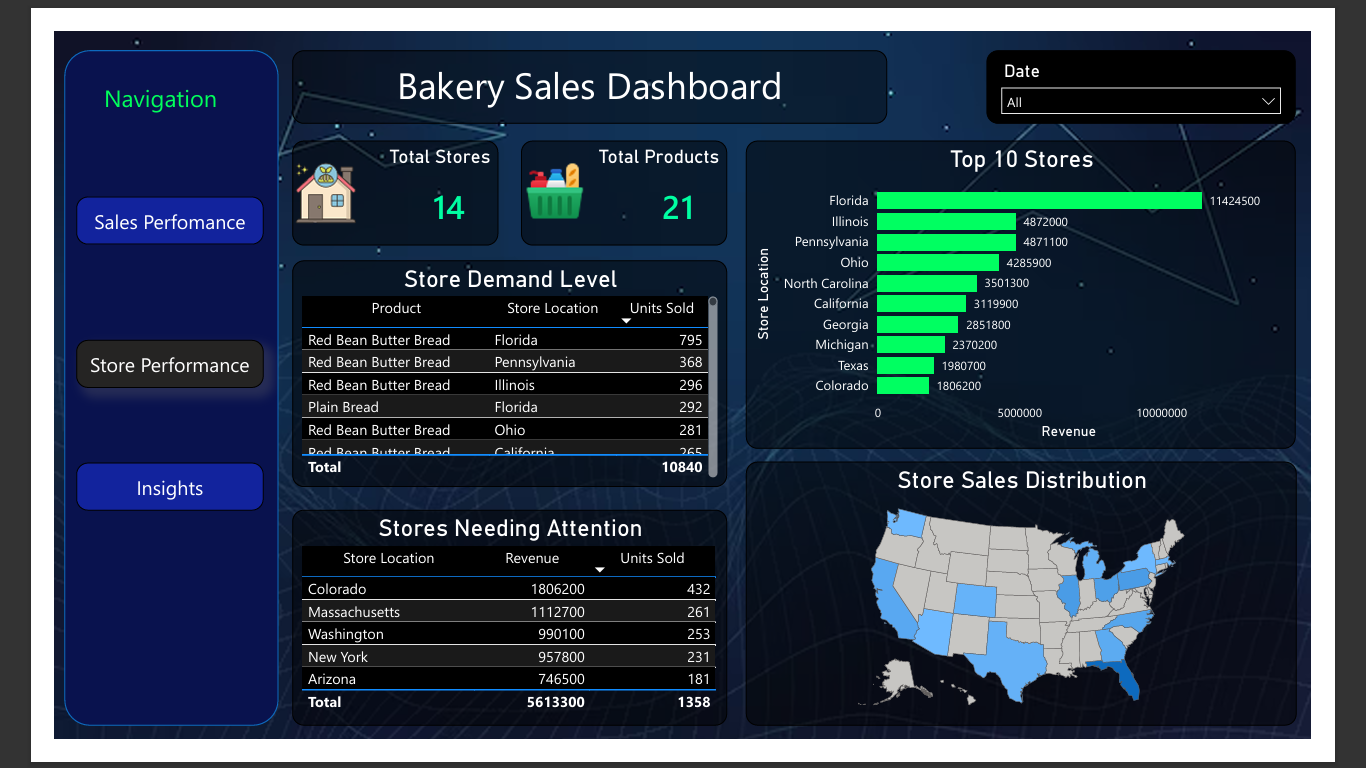

The page's visual inventory and layout, read from the dashboard file:
{"tool":"powerbi","page":{"name":"Store Perfomance","canvas":[1280,720],"ordinal":1},"visuals":[{"type":"shape","box":[10.1,18.7,217.4,688.3],"z":0},{"type":"cardVisual","title":"Total Stores","fields":{"Data":["final_bakery_sales.Total Stores"]},"box":[241.9,110.9,210.2,106.6],"z":0,"group":"g2"},{"type":"cardVisual","title":"Total Products","fields":{"Data":["final_bakery_sales.Total Products"]},"box":[475.2,110.9,210.2,106.6],"z":0,"group":"g1"},{"type":"image","box":[241.9,110.9,69.1,106.6],"z":1000,"group":"g2"},{"type":"image","box":[475.2,110.9,69.1,106.6],"z":1000,"group":"g1"},{"type":"actionButton","box":[21.6,168.5,191.5,49],"z":1000},{"type":"actionButton","box":[21.6,313.9,191.5,49],"z":2000},{"type":"actionButton","box":[21.6,439.2,191.5,49],"z":3000},{"type":"textbox","box":[18.7,46.1,178.6,47.5],"z":4000},{"type":"textbox","box":[241.9,18.7,606.2,74.9],"z":5000},{"type":"slicer","fields":{"Values":["final_bakery_sales.transaction_time.Variation.Date Hierarchy.Year","final_bakery_sales.transaction_time.Variation.Date Hierarchy.Month"]},"box":[949,18.7,315.4,74.9],"z":6000},{"type":"group","id":"g1","title":"Group 2","box":[475.2,110.9,210.2,106.6],"z":7000},{"type":"group","id":"g2","title":"Group 2","box":[241.9,110.9,210.2,106.6],"z":8000},{"type":"clusteredBarChart","title":"Top 10 Stores","fields":{"Y":["Sum(final_bakery_sales.Revenue)"],"Category":["final_bakery_sales.store_location"]},"box":[704.2,110.9,560.2,313.9],"z":9000},{"type":"shapeMap","title":"Store Sales Distribution","fields":{"Category":["final_bakery_sales.store_location"],"Value":["Sum(final_bakery_sales.Revenue)"]},"box":[703.8,438.4,561,268.8],"z":10000},{"type":"tableEx","title":"Store Demand Level","fields":{"Values":["final_bakery_sales.product_name","final_bakery_sales.store_location","Sum(final_bakery_sales.quantity_sold)"]},"box":[241.9,233.5,443.5,230.1],"z":11000},{"type":"tableEx","title":"Stores Needing Attention","fields":{"Values":["final_bakery_sales.store_location","Sum(final_bakery_sales.Revenue)","Sum(final_bakery_sales.quantity_sold)"]},"box":[241.9,487.1,443.5,220.1],"z":12000}]}

Visuals, with their boxes in screenshot pixels (x1, y1, x2, y2), scaled from the page's 1280x720 canvas onto the 1366x768 screenshot:
shape: 11 20 243 754
"Total Stores" cardVisual: 258 118 482 232
"Total Products" cardVisual: 507 118 731 232
image: 258 118 332 232
image: 507 118 581 232
actionButton: 23 180 227 232
actionButton: 23 335 227 387
actionButton: 23 468 227 521
textbox: 20 49 211 100
textbox: 258 20 905 100
slicer - final_bakery_sales.transaction_time.Variation.Date Hierarchy.Year x final_bakery_sales.transaction_time.Variation.Date Hierarchy.Month: 1013 20 1349 100
"Group 2" group: 507 118 731 232
"Group 2" group: 258 118 482 232
"Top 10 Stores" clusteredBarChart: 752 118 1349 453
"Store Sales Distribution" shapeMap: 751 468 1350 754
"Store Demand Level" tableEx: 258 249 731 495
"Stores Needing Attention" tableEx: 258 520 731 754
